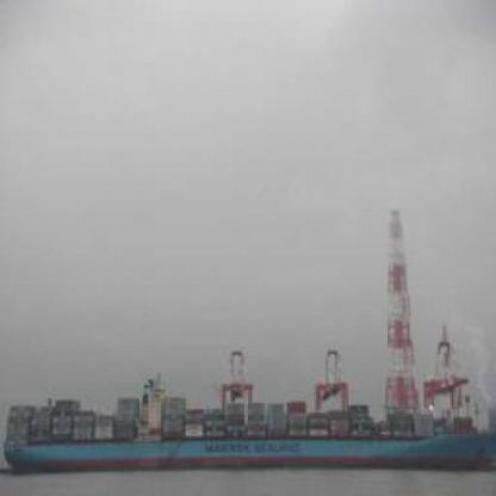Ship: (1, 369, 491, 473)
